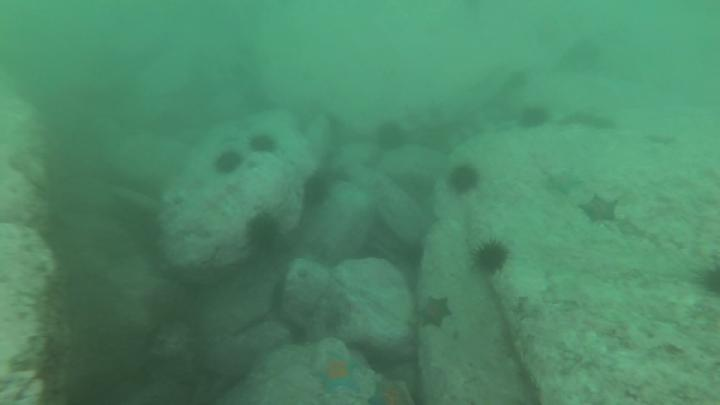echinus: (466, 237, 513, 281), (244, 210, 284, 256), (444, 163, 481, 201), (373, 119, 407, 157), (689, 261, 720, 298), (300, 174, 330, 208), (212, 150, 247, 179), (516, 105, 550, 134), (246, 131, 278, 157)
starfish: (310, 348, 367, 400), (577, 191, 622, 227), (363, 378, 415, 405), (416, 295, 455, 331), (543, 167, 584, 200)
